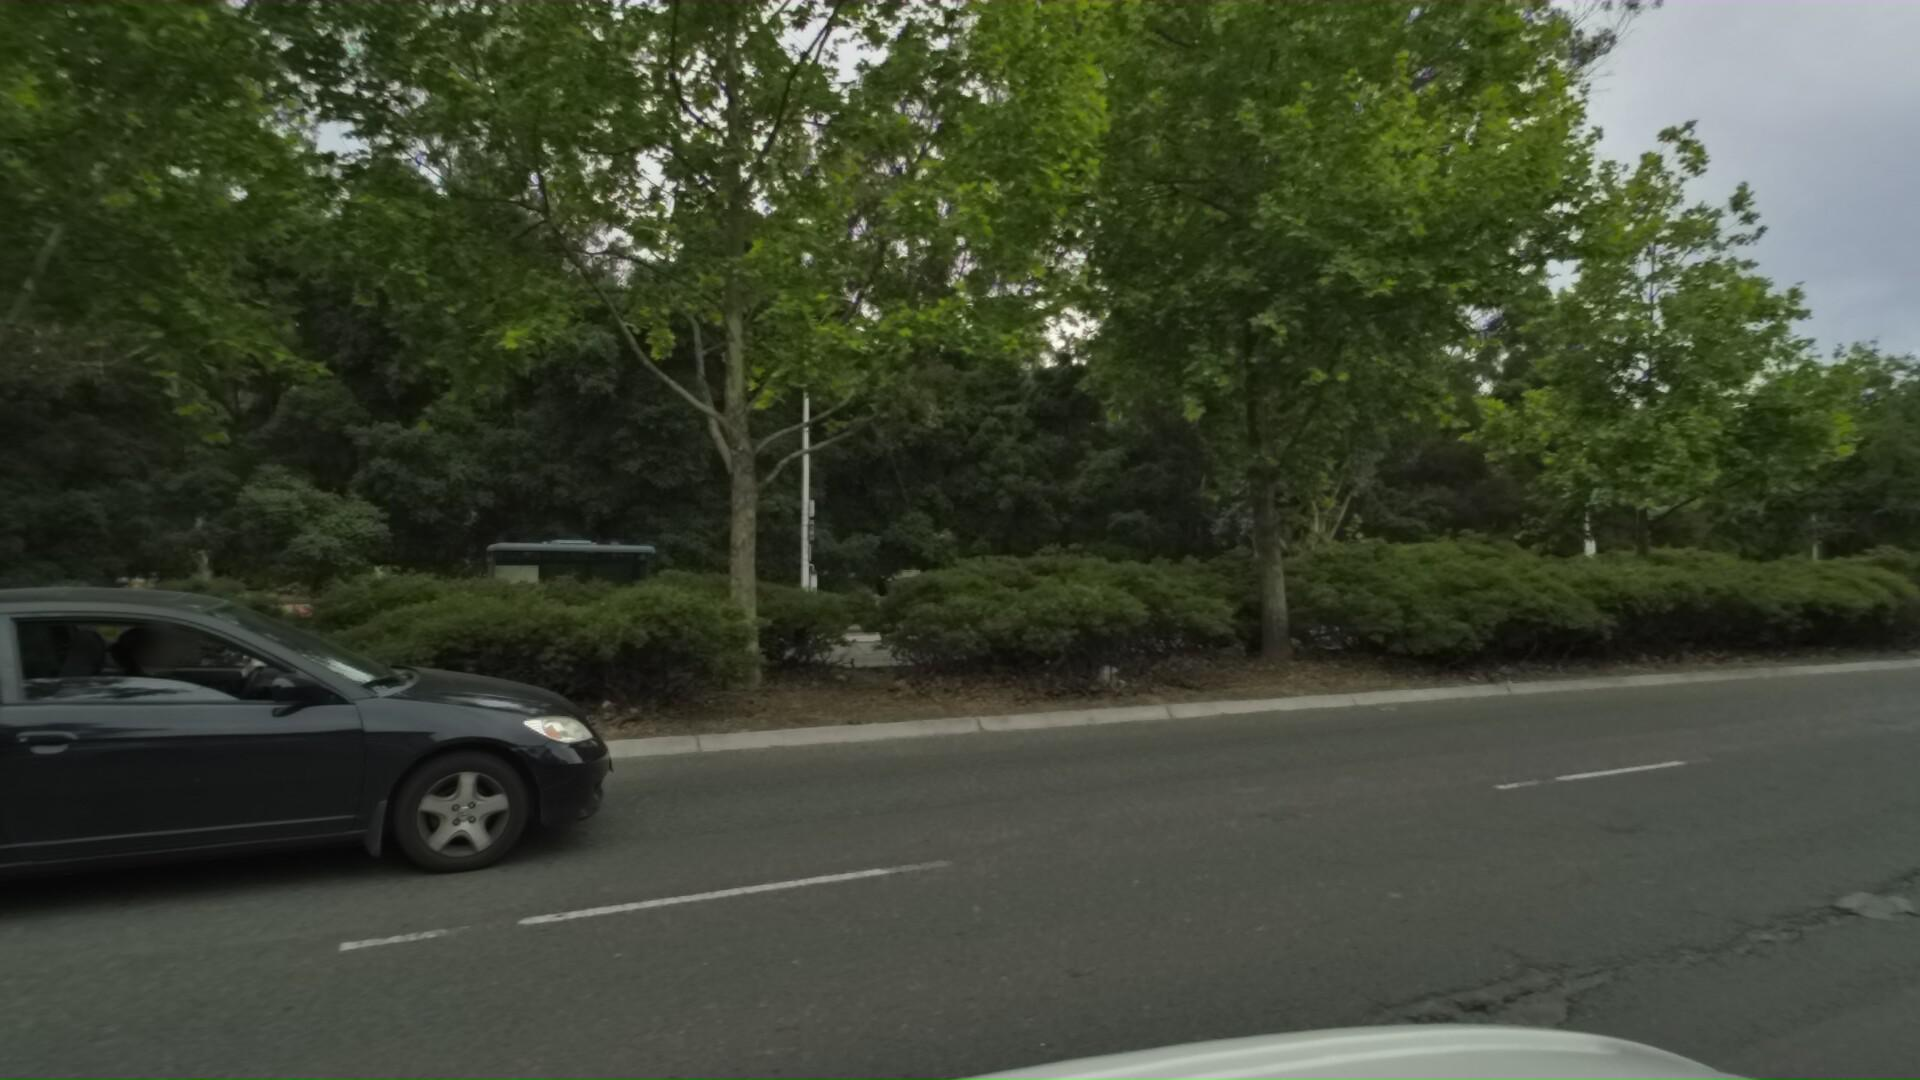car: (0, 556, 625, 1055)
